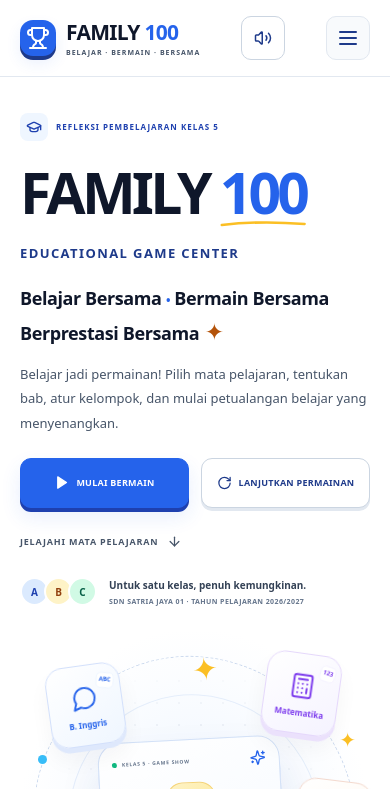
Scenario: opens and closes the touch navigation with accessible state
Click the button named "Buka navigasi": {"x": 348, "y": 38} 326,16 -> 370,60
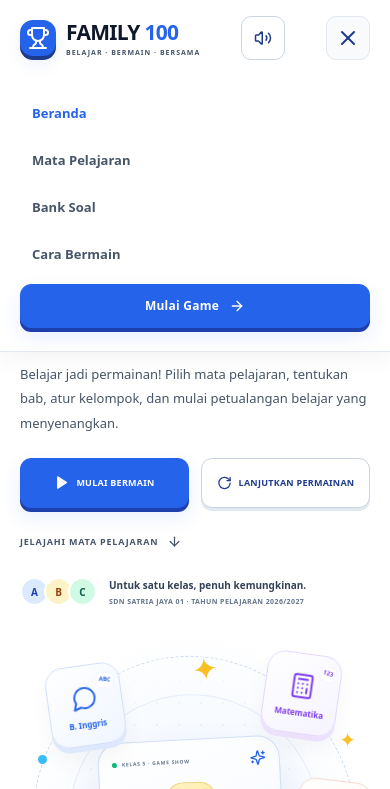
Result: the button named "Buka navigasi" is expanded at 326,16 -> 370,60
Click the link "Mata Pelajaran": {"x": 81, "y": 160} 32,151 -> 130,169
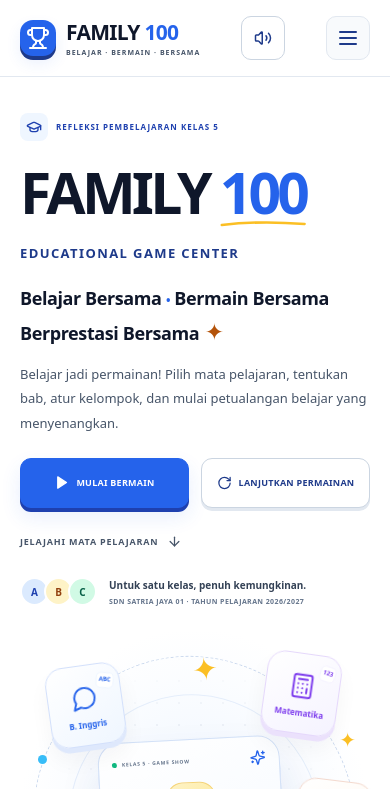
Result: the button named "Buka navigasi" is collapsed at 326,16 -> 370,60
